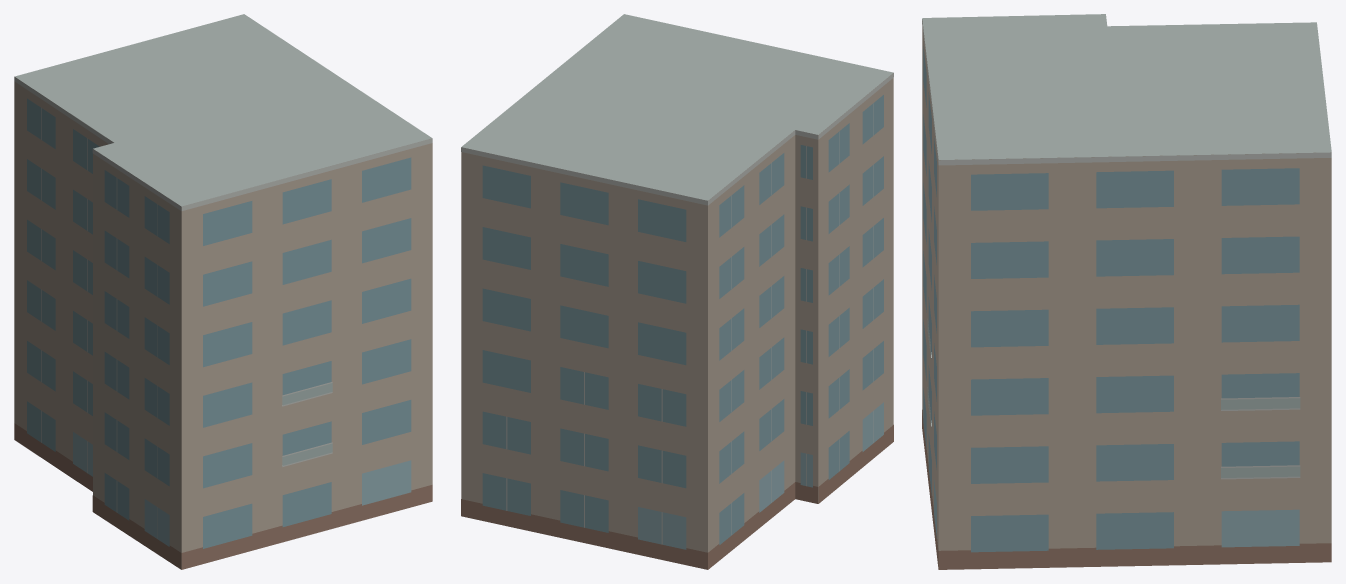
Rendered from survey-upis-32706441.glb.
The picture shows the model from 3 angles, left to right: view 1: azimuth 30°, elevation 25°; view 2: azimuth 150°, elevation 25°; view 3: azimuth 270°, elevation 25°; orthographic projection. The views are drawn at different scales.
Visible parts, largest first — view 1: survey-upis-32706441.tmp; view 2: survey-upis-32706441.tmp; view 3: survey-upis-32706441.tmp.
Part boxes in pixels (bbox=[...]): survey-upis-32706441.tmp: bbox=[14, 14, 432, 569]; survey-upis-32706441.tmp: bbox=[461, 14, 893, 569]; survey-upis-32706441.tmp: bbox=[922, 14, 1331, 569].
Size of the model in its own units: 14.23 by 18.6 by 16.86.
